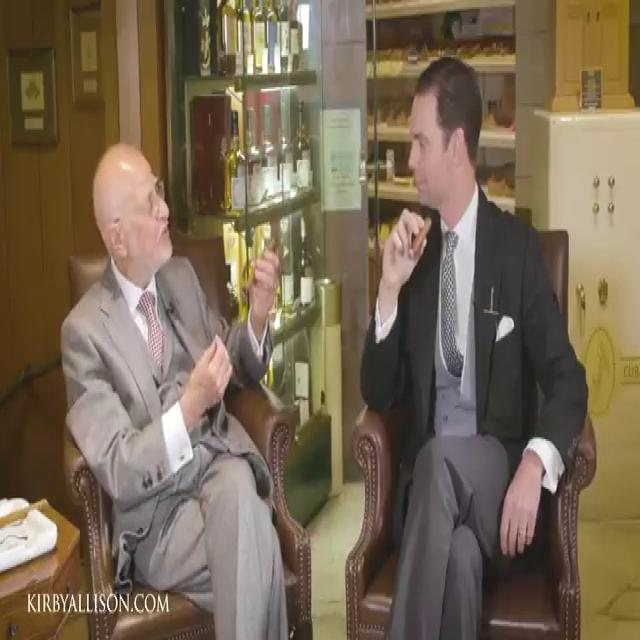Smooking: (405, 215, 440, 275)
